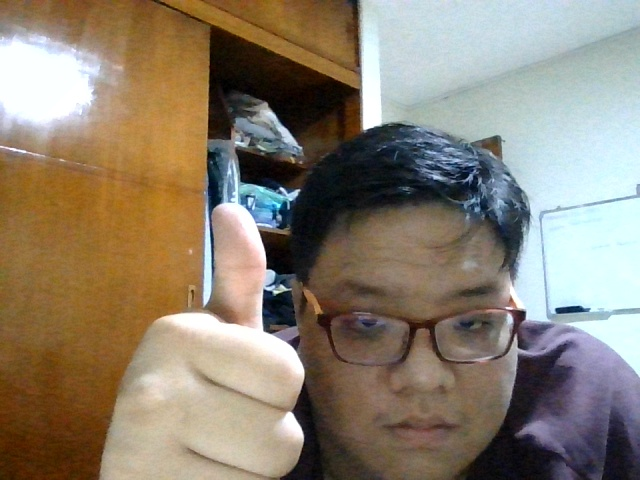si: (91, 200, 306, 480)
